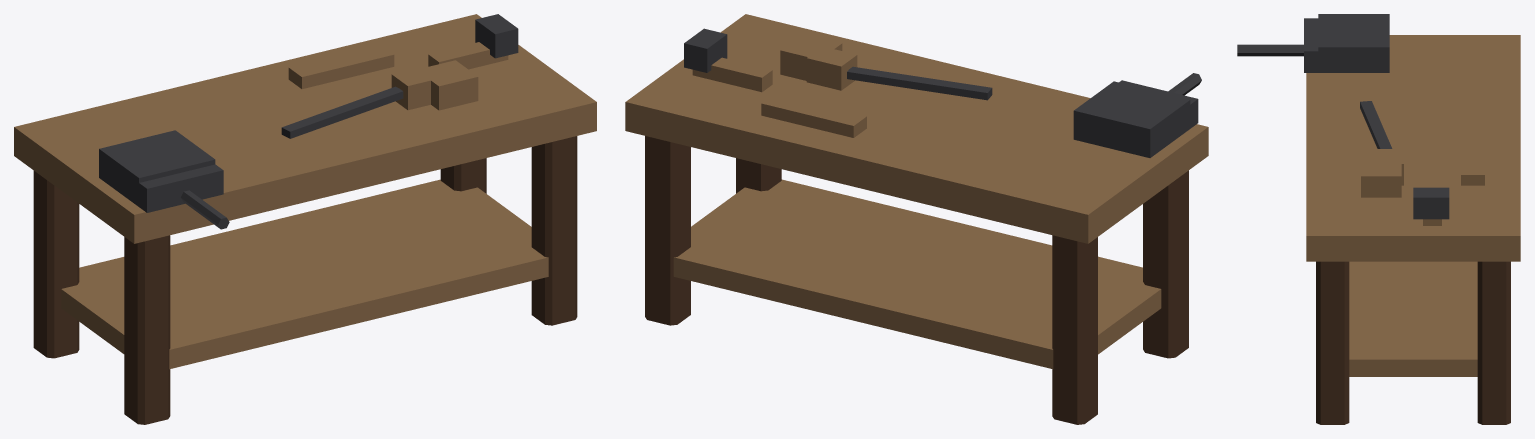
File: workbench_lod0.glb
3 views of the same model, side by side, from view 1: azimuth 30°, elevation 25°; view 2: azimuth 150°, elevation 25°; view 3: azimuth 270°, elevation 25° (orthographic). The views are drawn at different scales.
Parts seen in each view (by area): view 1: workbench; view 2: workbench; view 3: workbench.
Part boxes in pixels (box(x1,y1,x2,y2)): workbench: box(14, 14, 596, 424); workbench: box(625, 14, 1208, 424); workbench: box(1237, 14, 1520, 424).
Size of the model in its own units: 2 by 1.04 by 1.19.
